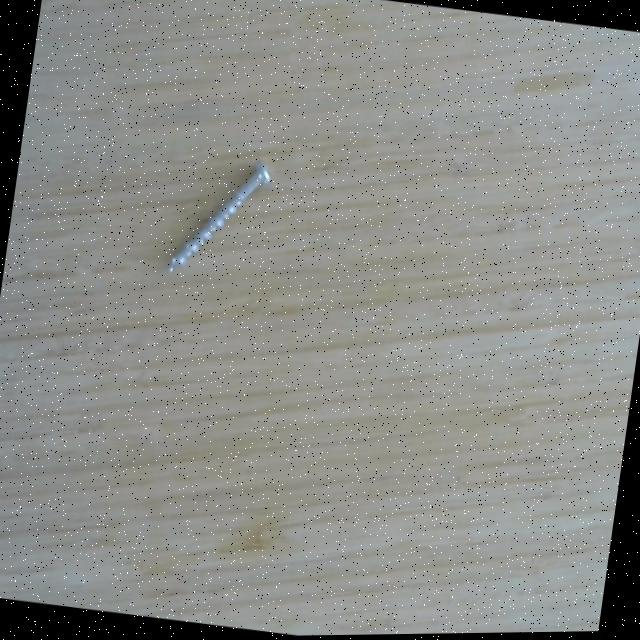Medium screw: (160, 154, 280, 283)
